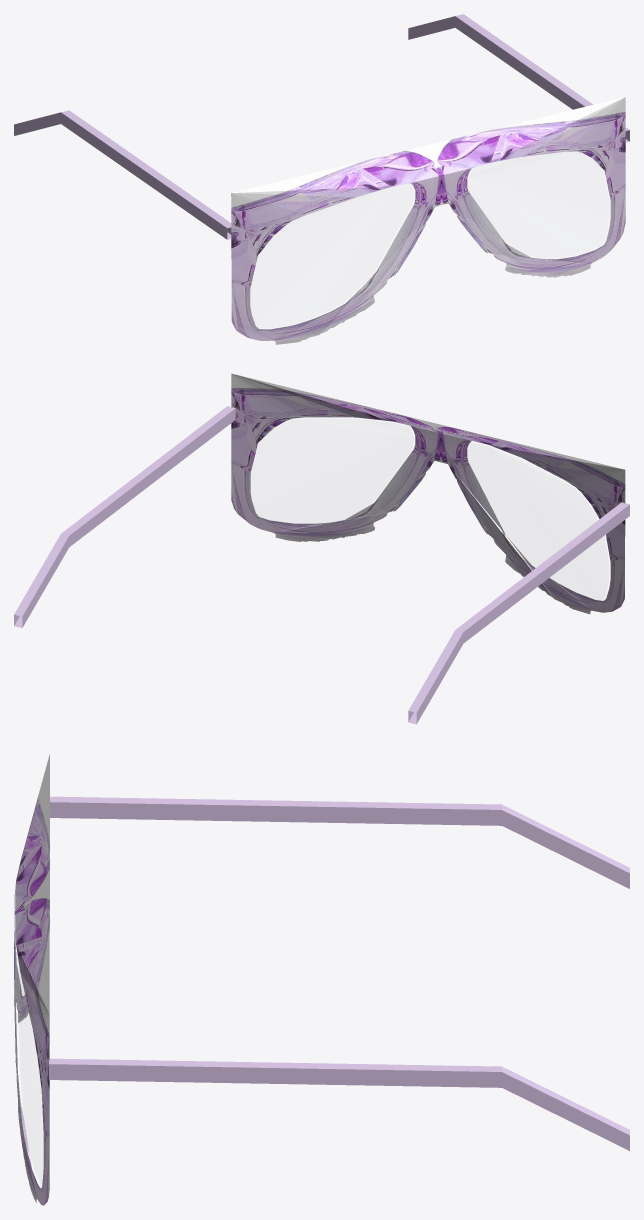
File: smilen-elite-53_aster.glb
3 views of the same model, one above another, from view 1: azimuth 30°, elevation 25°; view 2: azimuth 150°, elevation 25°; view 3: azimuth 270°, elevation 25° (orthographic). The views are drawn at different scales.
Visible parts, largest first — view 1: frame_front, temple_viewer_left, temple_viewer_right; view 2: frame_front, temple_viewer_left, temple_viewer_right; view 3: temple_viewer_right, temple_viewer_left, frame_front.
Part boxes in pixels (bbox=[...]): frame_front: bbox=[231, 97, 625, 344]; temple_viewer_left: bbox=[14, 110, 233, 239]; temple_viewer_right: bbox=[408, 14, 629, 142]; frame_front: bbox=[231, 373, 625, 614]; temple_viewer_left: bbox=[408, 502, 629, 724]; temple_viewer_right: bbox=[14, 406, 235, 627]; temple_viewer_right: bbox=[49, 1058, 629, 1150]; temple_viewer_left: bbox=[50, 796, 629, 888]; frame_front: bbox=[14, 754, 49, 1205].
Bounding box in the file's own units: 0.1449 × 0.0547 × 0.141.
3 materials, 2 textured.
